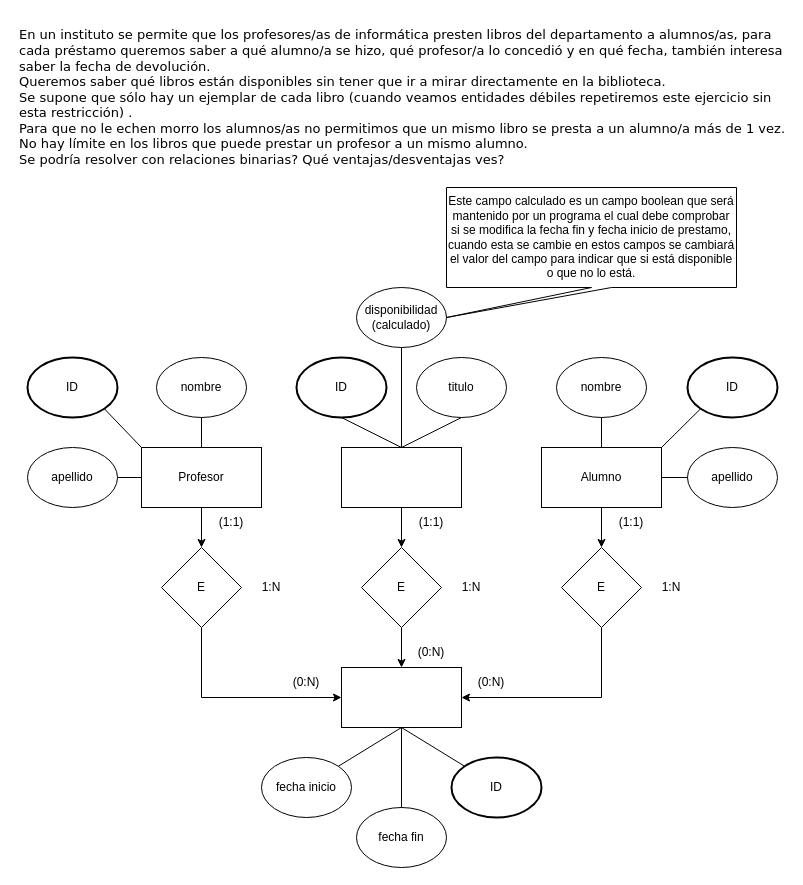
The diagram is 803 pixels wide and 885 high, and some of its shapes have lost their labels. Each missing label, with the centre of its shape:
Libro: (x=401, y=477)
Prestamo: (x=401, y=697)
